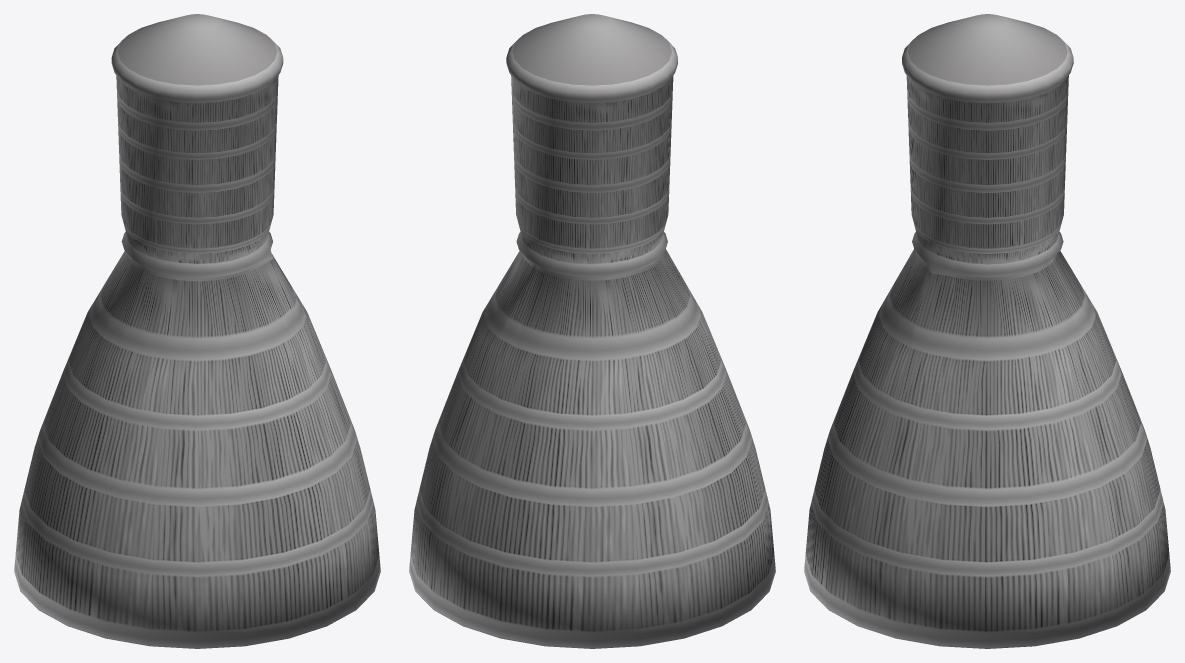
The model's file is LR_79_Chamber.obj.
3 renders of one model, left to right at view 1: azimuth 30°, elevation 25°; view 2: azimuth 150°, elevation 25°; view 3: azimuth 270°, elevation 25°, orthographic.
Visible parts, largest first — view 1: Chamber; view 2: Chamber; view 3: Chamber.
Boxes of the visible parts, x1=… form: Chamber: x1=14, y1=14, x2=380, y2=648; Chamber: x1=409, y1=14, x2=775, y2=648; Chamber: x1=804, y1=14, x2=1170, y2=648.
Size of the model in its own units: 1.4 by 2.31 by 1.4.
Materials: 1 (1 with a texture image).
